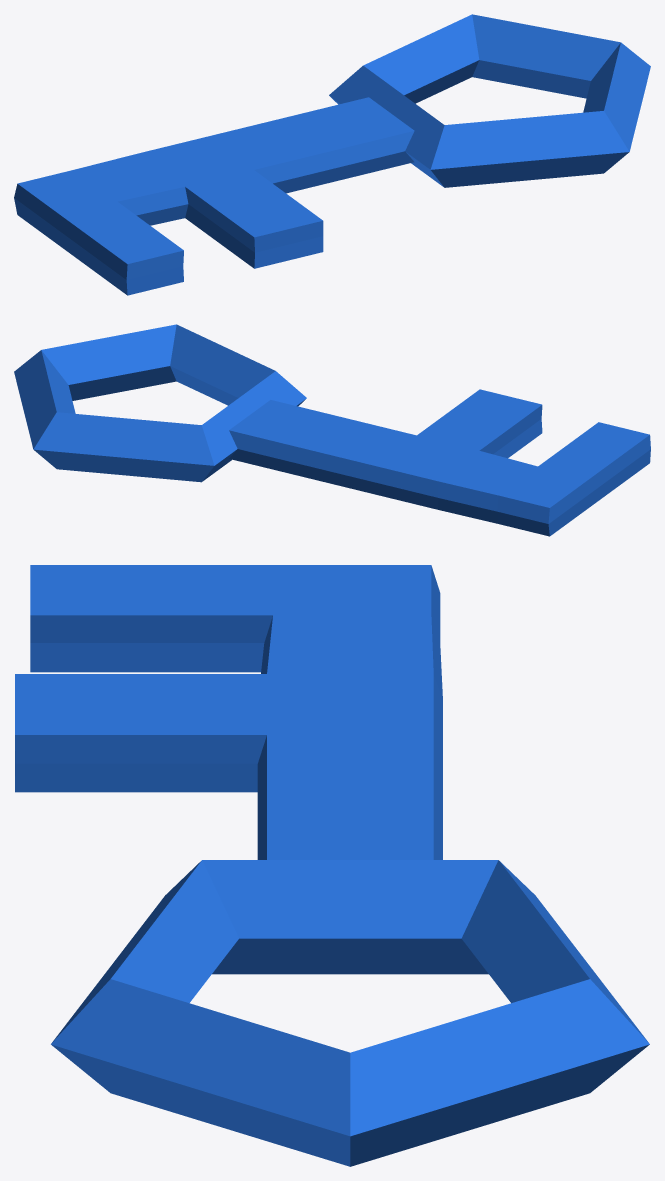
Rendered from key.fbx.
3 views of the same model, one above another, from view 1: azimuth 30°, elevation 25°; view 2: azimuth 150°, elevation 25°; view 3: azimuth 270°, elevation 25° (orthographic). The views are drawn at different scales.
Parts seen in each view (by area): view 1: Torus; view 2: Torus; view 3: Torus.
Boxes of the visible parts, left/top/right/bottom form: Torus: left=14, top=14, right=650, bottom=295; Torus: left=14, top=324, right=650, bottom=536; Torus: left=15, top=565, right=649, bottom=1166.
Bounding box in the file's own units: 510 × 50 × 252.
